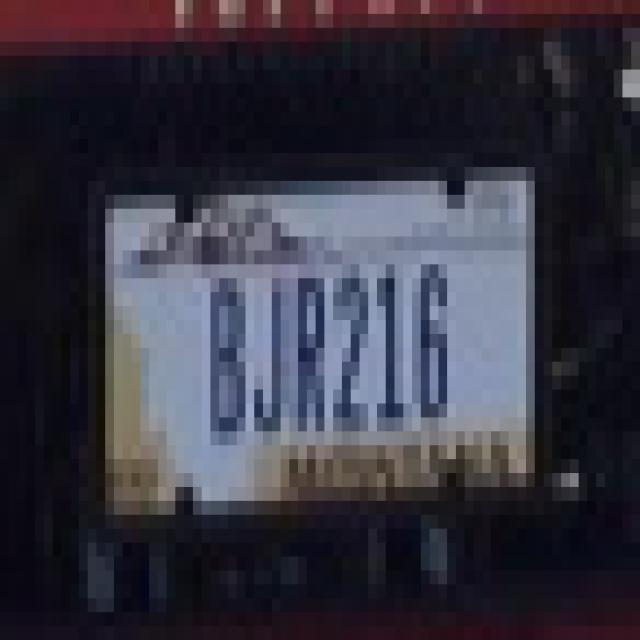1: (375, 258, 409, 428)
6: (412, 252, 457, 429)
B: (206, 268, 247, 456)
J: (252, 268, 288, 448)
R: (293, 268, 329, 444)
